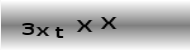3: (20, 22, 35, 36)
X: (76, 19, 95, 33), (99, 16, 118, 30)
t: (53, 26, 65, 39)
x: (35, 26, 51, 37)
